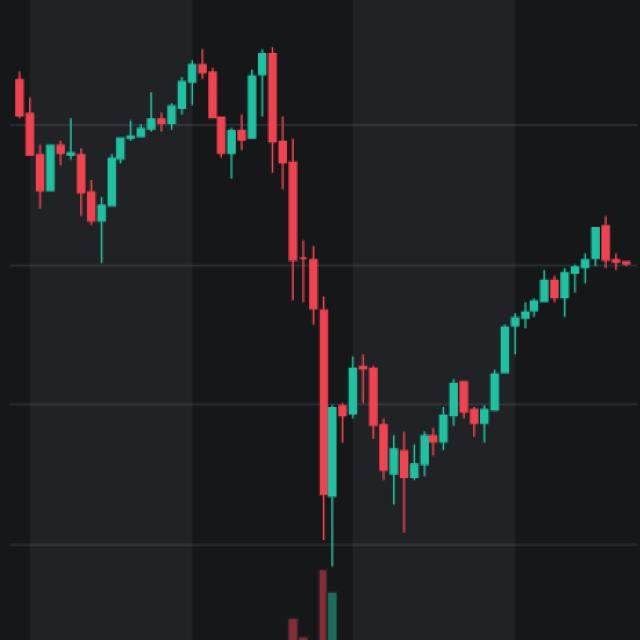Ascending-Triangle: (2, 42, 464, 295)
